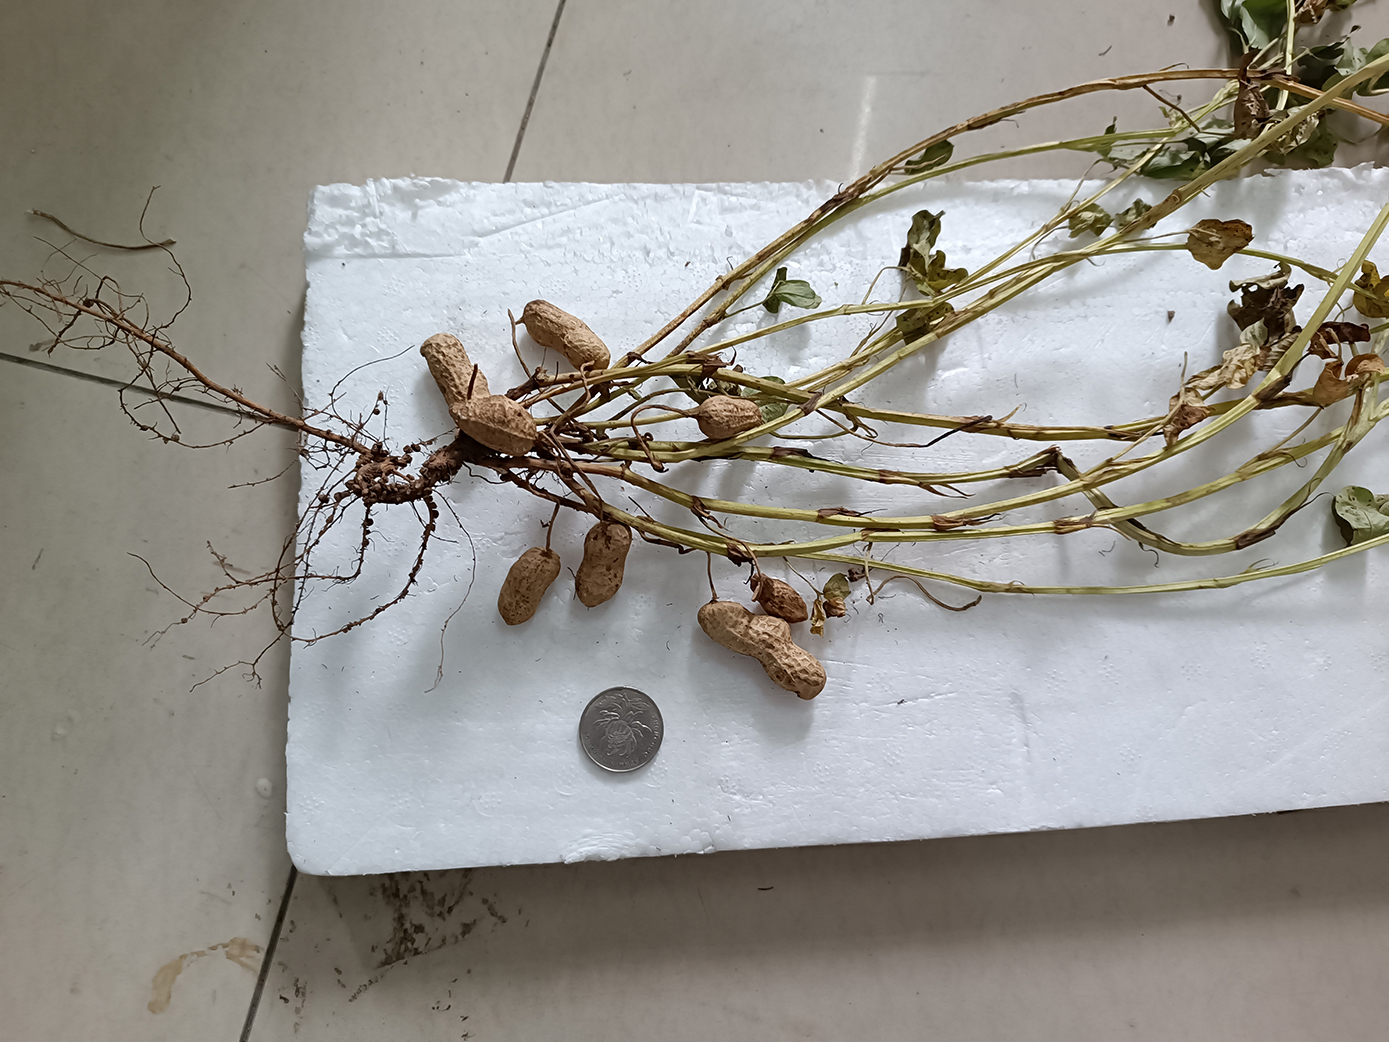h: (699, 599, 827, 698), (522, 299, 610, 371), (498, 544, 560, 625), (451, 395, 536, 452), (577, 519, 630, 607), (421, 332, 488, 398), (752, 570, 808, 622), (697, 393, 760, 438)
